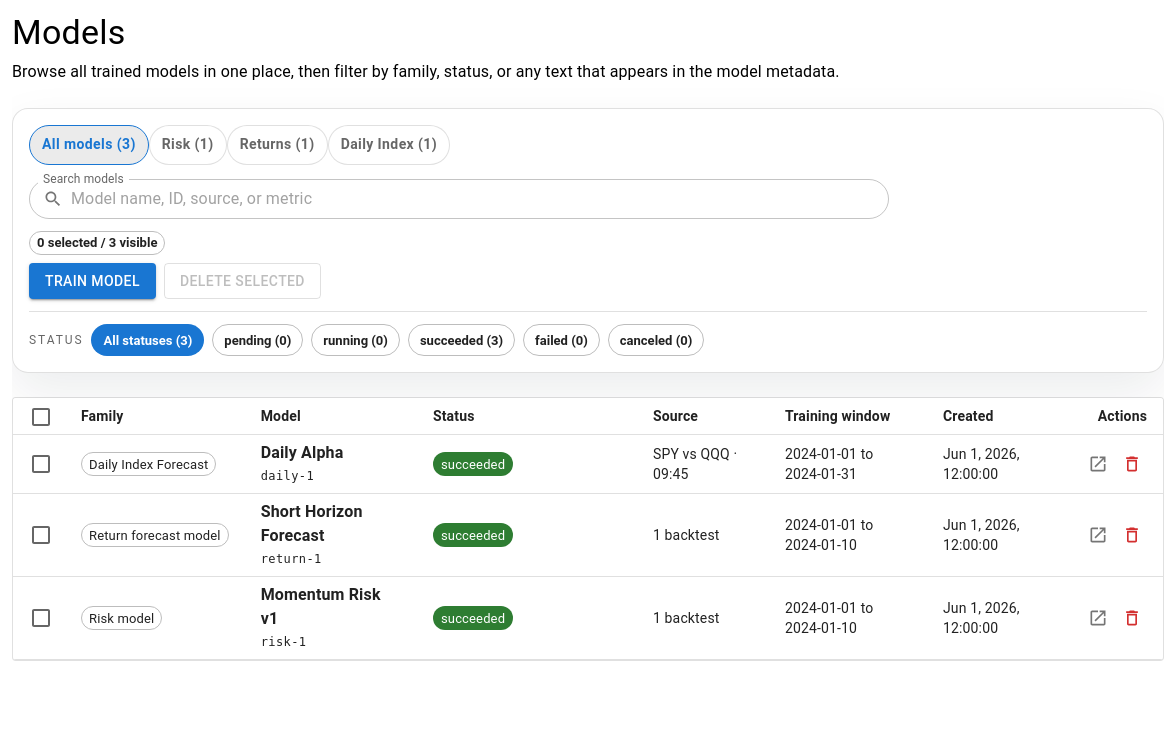
Scenario: ModelsLandingPage › supports bulk deleting selected models
expect the text "Momentum Risk v1" is shown: met, box [261,583,401,631]
expect the button "Delete selected" is disabled: met, box [164,263,321,300]
What coordinates should you click on to do the following:
click the checkbox named "Select model risk-1"
I would click on:
 (41, 618)
Its box is [29,606,53,630].
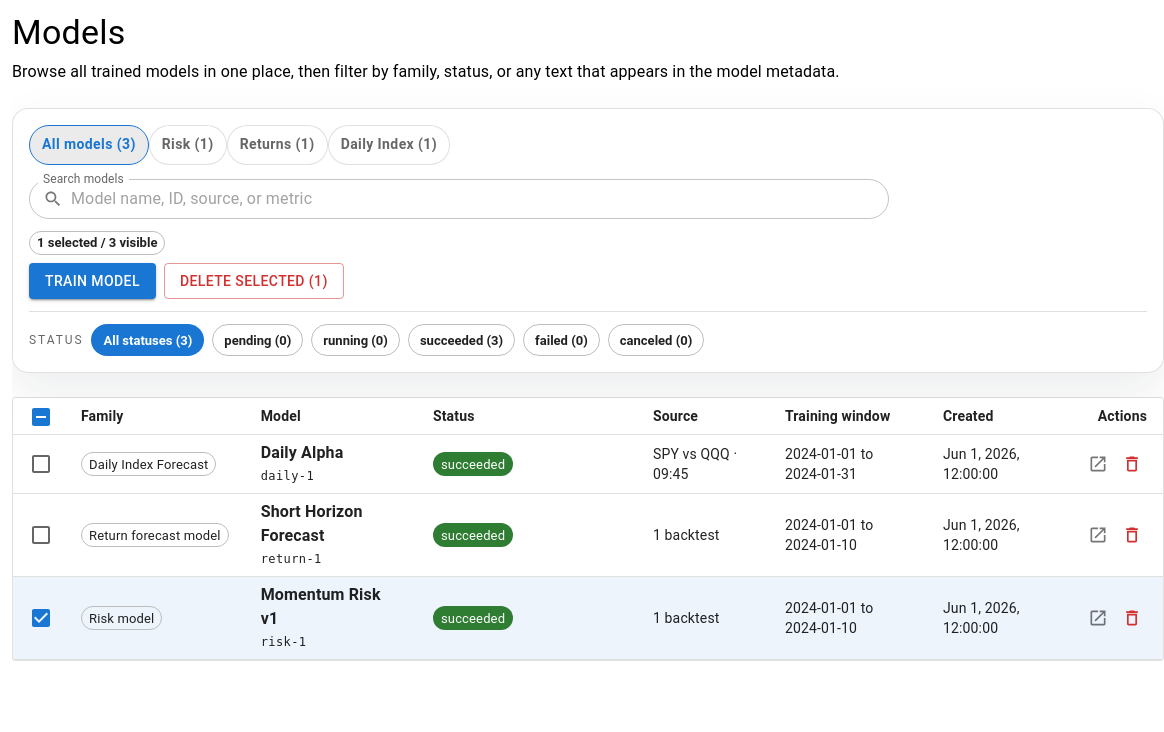
expect the button "Delete selected (1)" is enabled: met, box [164,263,344,300]
expect the text "1 selected / 3 visible" is shown: met, box [30,233,164,253]
